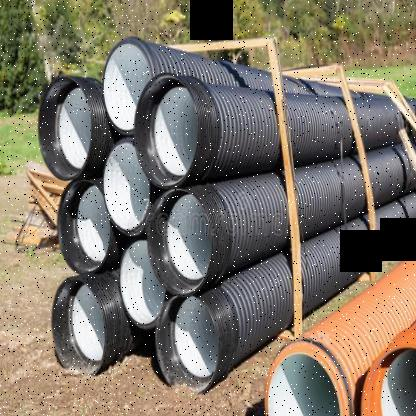pipe: (133, 74, 199, 188), (147, 188, 212, 296), (155, 296, 219, 394), (37, 75, 92, 180), (51, 276, 106, 376), (57, 177, 111, 274), (266, 351, 341, 416), (103, 41, 151, 135), (118, 238, 168, 328), (103, 139, 150, 233), (358, 343, 416, 416)
